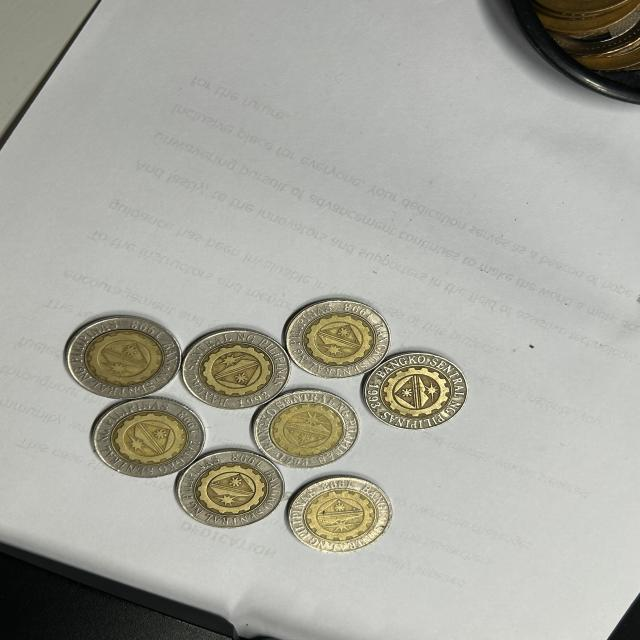10_Old_Back: (71, 309, 176, 396), (183, 333, 286, 405), (95, 404, 197, 474), (368, 358, 467, 430), (288, 301, 382, 376), (181, 457, 287, 522), (263, 393, 354, 460), (298, 478, 384, 547)
